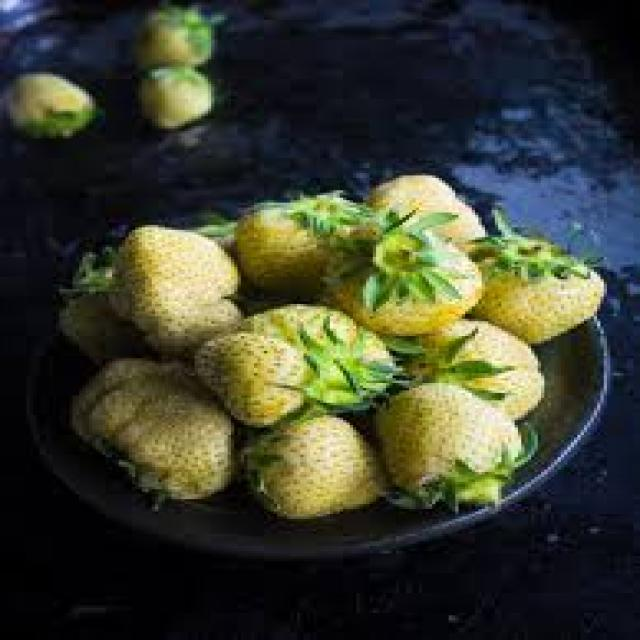immature: (69, 355, 235, 498), (330, 229, 484, 336), (254, 418, 390, 522), (407, 321, 543, 423), (120, 225, 236, 341), (398, 393, 520, 499), (466, 257, 608, 345), (199, 329, 306, 421), (9, 71, 96, 137), (136, 4, 212, 66), (139, 68, 213, 130)
